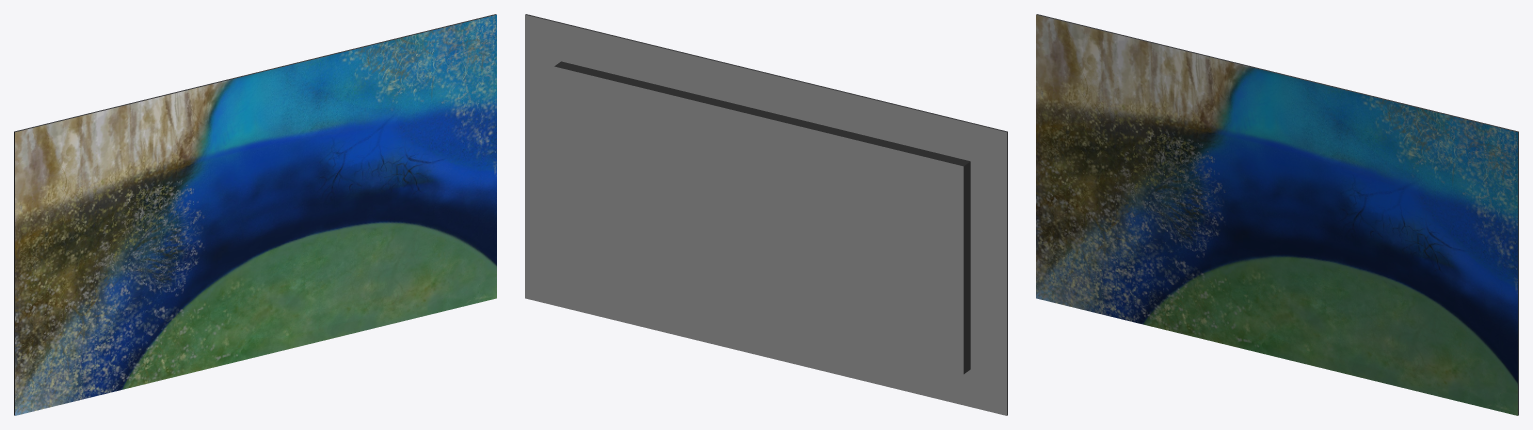
File: hz044_moyen_dibond.glb
3 views of the same model, side by side, from view 1: azimuth 30°, elevation 25°; view 2: azimuth 150°, elevation 25°; view 3: azimuth 330°, elevation 25° (orthographic).
Visible parts, largest first — view 1: hz044_moyen_dibond; view 2: hz044_moyen_dibond; view 3: hz044_moyen_dibond.
Boxes of the visible parts, bbox=[...] form: hz044_moyen_dibond: bbox=[14, 14, 496, 415]; hz044_moyen_dibond: bbox=[525, 14, 1007, 415]; hz044_moyen_dibond: bbox=[1036, 14, 1518, 415].
Size of the model in its own units: 0.8 by 0.45 by 0.023.
Materials: 4 (1 with a texture image).
